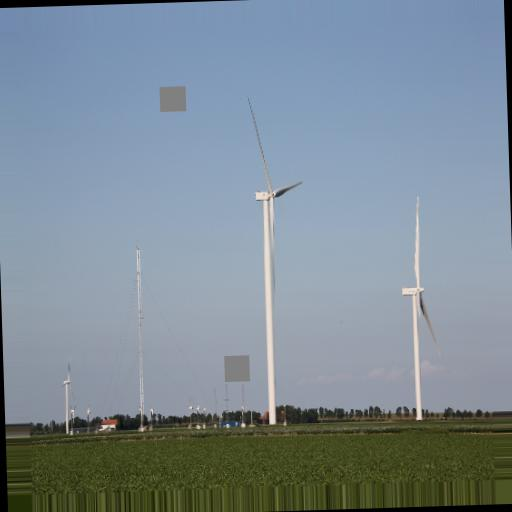wind turbine: (245, 96, 303, 427), (403, 193, 439, 422), (60, 362, 76, 441)
